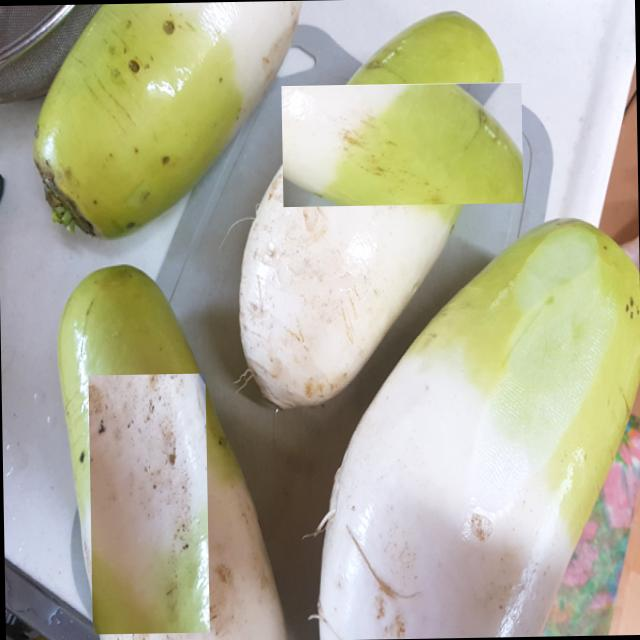radish: (310, 52, 493, 236), (88, 372, 210, 634)
